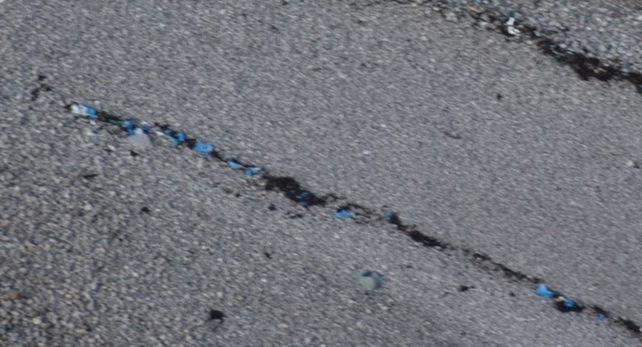scattered_barrel: (534, 275, 611, 323), (292, 182, 355, 220), (66, 102, 143, 131), (151, 123, 219, 154), (220, 152, 265, 184)
white_in_green: (367, 193, 411, 229)
